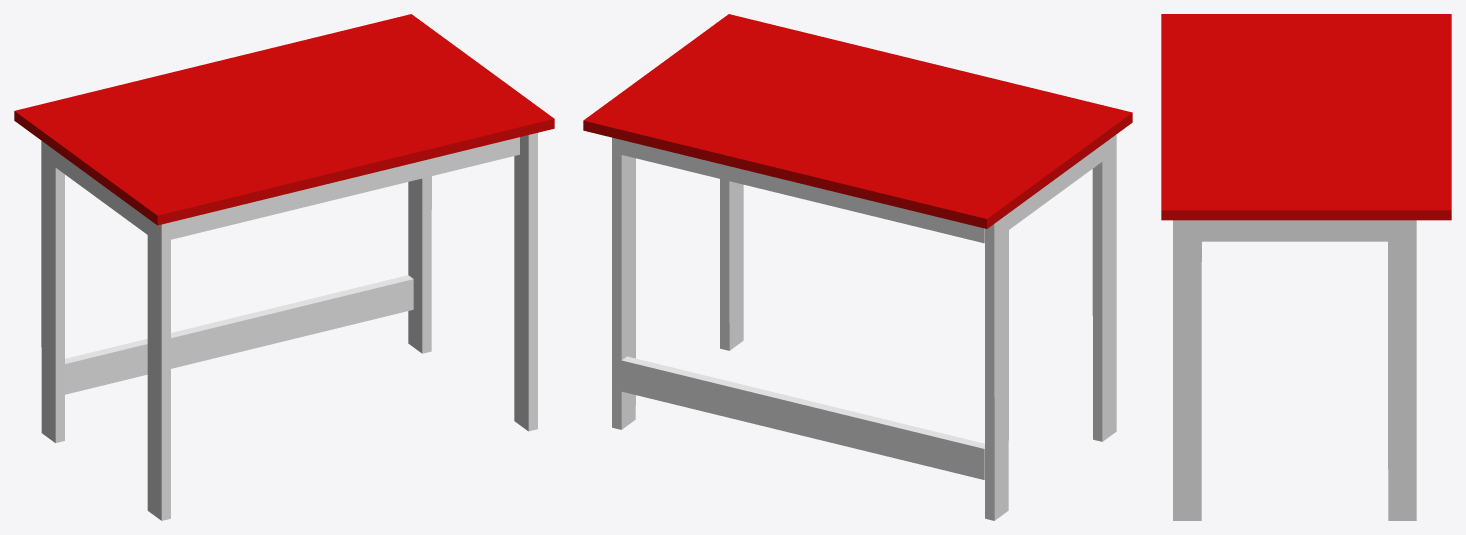
Rendered from Desk01b_LowPoly.fbx.
The picture shows the model from 3 angles, left to right: view 1: azimuth 30°, elevation 25°; view 2: azimuth 150°, elevation 25°; view 3: azimuth 270°, elevation 25°; orthographic projection.
Parts seen in each view (by area): view 1: Desk01b; view 2: Desk01b; view 3: Desk01b.
Boxes of the visible parts, x1,y1,x2,y2 form: Desk01b: [14, 14, 554, 520]; Desk01b: [583, 14, 1132, 520]; Desk01b: [1161, 14, 1451, 520].
Bounding box in the file's own units: 99.87 × 74.95 × 62.37.
